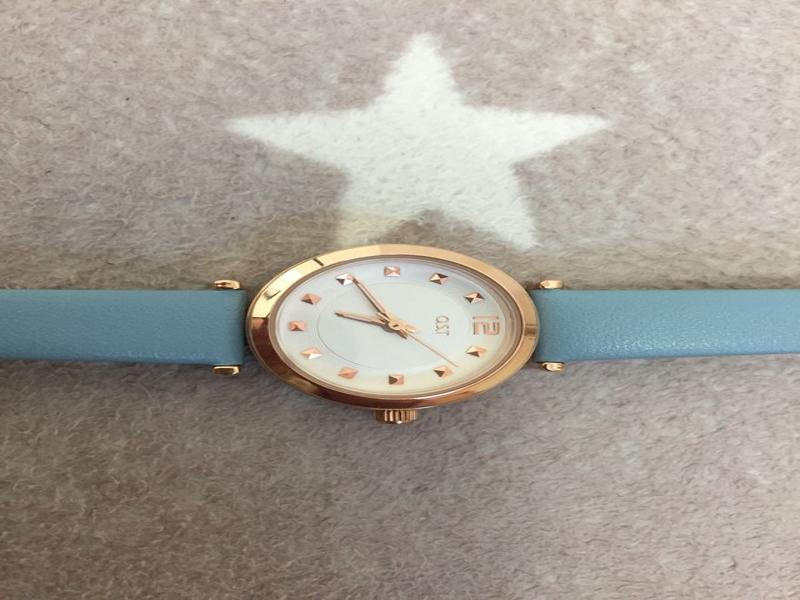watch: (6, 243, 800, 427)
